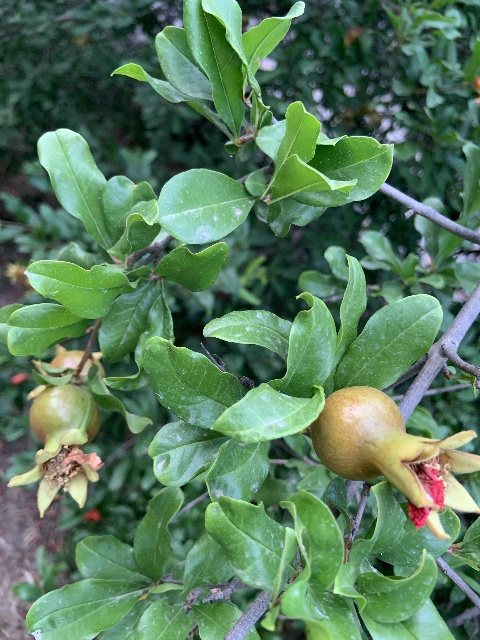early-fruit: (310, 386, 480, 540)
mid-growth: (8, 383, 105, 513)
